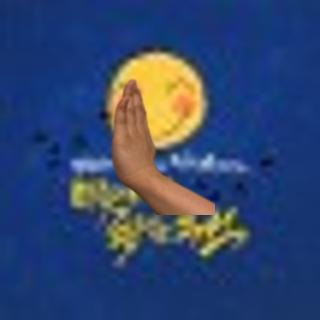RIGHT: (103, 75, 163, 186)
